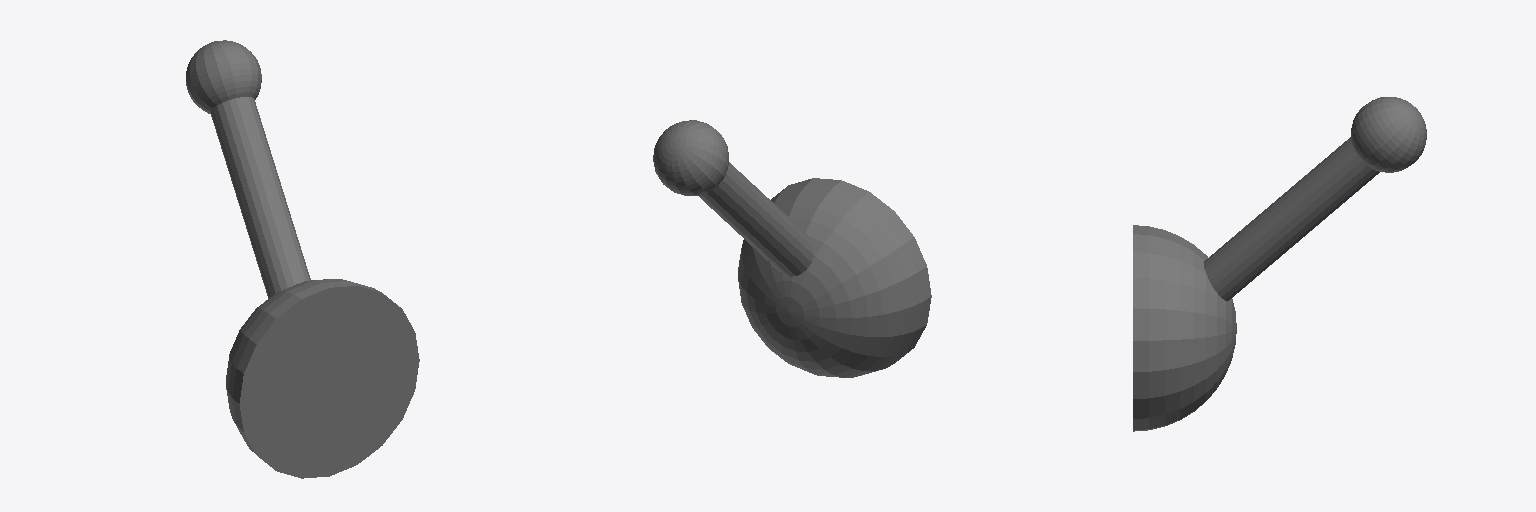
Rendered from controller.obj.
3 renders of one model, left to right at view 1: azimuth 30°, elevation 25°; view 2: azimuth 150°, elevation 25°; view 3: azimuth 270°, elevation 25°, orthographic.
Visible parts, largest first — view 1: controller:pSphere1 controller:group1, controller:group1 controller:pCylinder1, controller:group1 controller:pCylinder1 controller:pSphere2; view 2: controller:pSphere1 controller:group1, controller:group1 controller:pCylinder1, controller:group1 controller:pCylinder1 controller:pSphere2; view 3: controller:pSphere1 controller:group1, controller:group1 controller:pCylinder1, controller:group1 controller:pCylinder1 controller:pSphere2.
Part boxes in pixels (x1,y1,x2,y2): controller:pSphere1 controller:group1: (226, 279, 419, 478); controller:group1 controller:pCylinder1: (211, 97, 310, 298); controller:group1 controller:pCylinder1 controller:pSphere2: (186, 40, 261, 113); controller:pSphere1 controller:group1: (738, 178, 931, 377); controller:group1 controller:pCylinder1: (699, 162, 813, 276); controller:group1 controller:pCylinder1 controller:pSphere2: (653, 120, 728, 195); controller:pSphere1 controller:group1: (1133, 225, 1236, 431); controller:group1 controller:pCylinder1: (1204, 137, 1379, 300); controller:group1 controller:pCylinder1 controller:pSphere2: (1351, 97, 1426, 172).
Size of the model in its own units: 0.8246 by 1.46 by 1.17.